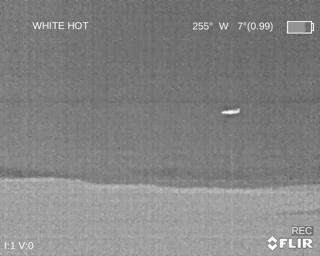AIRPLANE: (220, 107, 241, 116)
